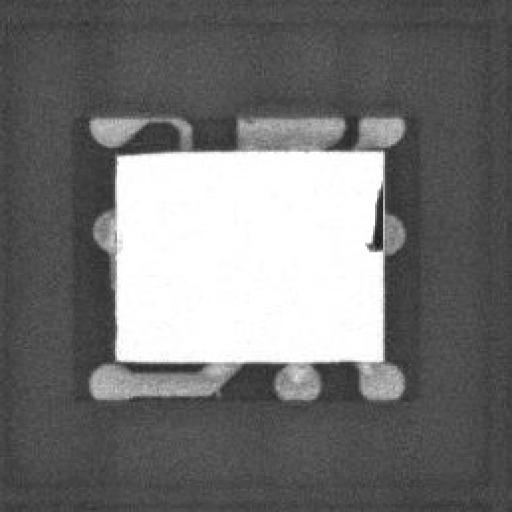DIE_BROKEN: (361, 182, 385, 254)
